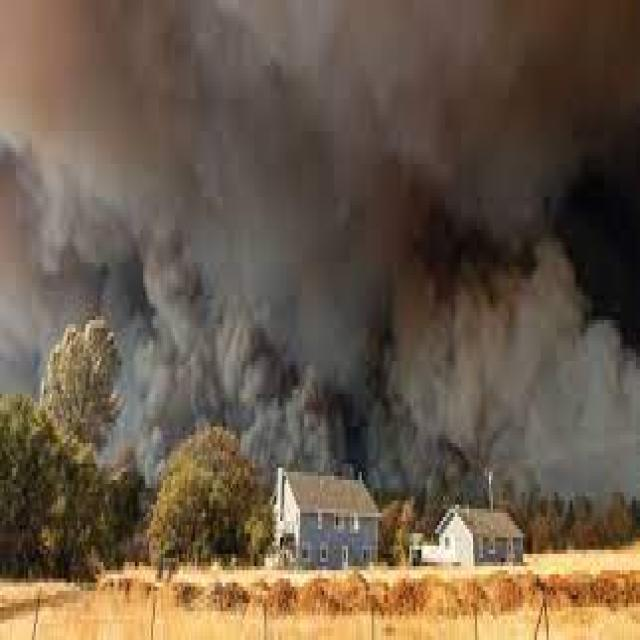Smoke: (5, 3, 640, 366), (135, 367, 640, 467)
